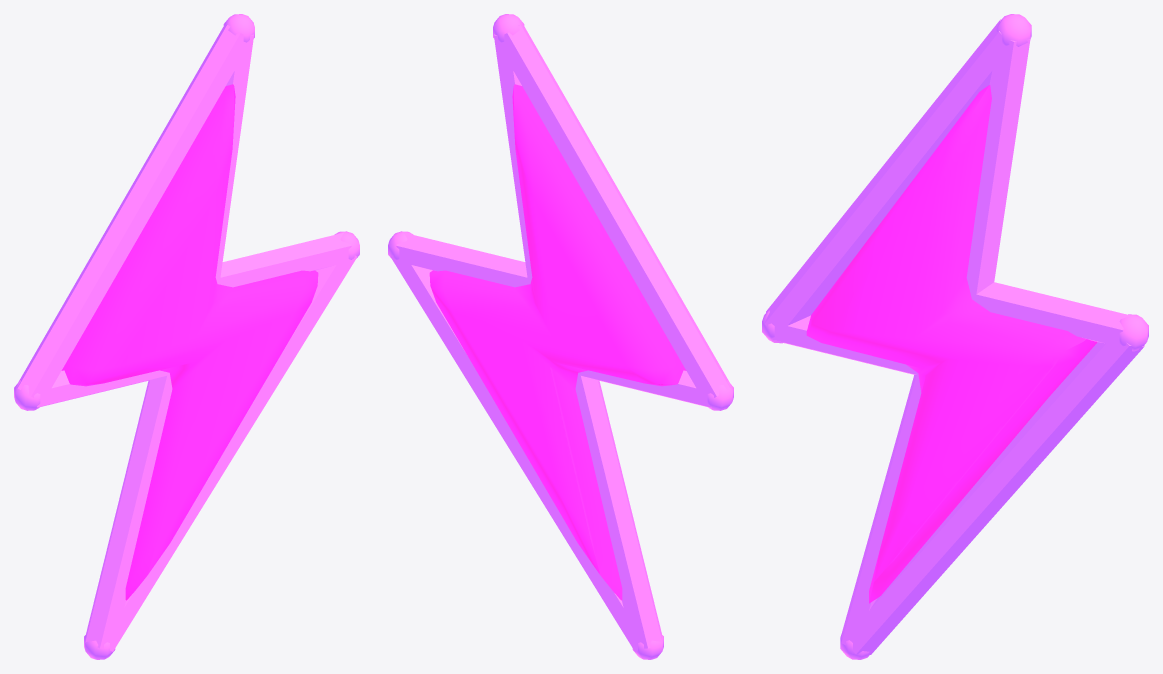
Rendered from rn_coin.glb.
3 renders of one model, left to right at view 1: azimuth 30°, elevation 25°; view 2: azimuth 150°, elevation 25°; view 3: azimuth 330°, elevation 25°, orthographic. The views are drawn at different scales.
Parts seen in each view (by area): view 1: rn_coin; view 2: rn_coin; view 3: rn_coin.
Part boxes in pixels (box(x1,y1,x2,y2)): rn_coin: box(14, 14, 359, 659); rn_coin: box(388, 14, 733, 659); rn_coin: box(762, 14, 1148, 659).
Bounding box in the file's own units: 0.6943 × 1.18 × 0.16.
Materials: 2 (2 with a texture image).
